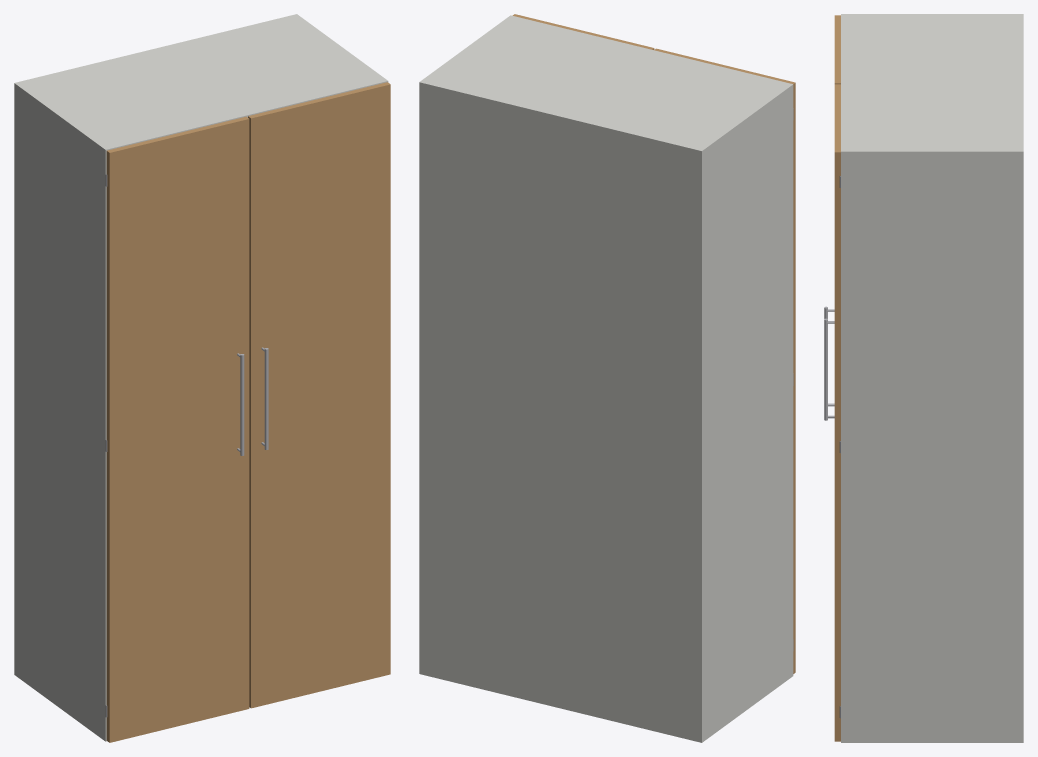
The model's file is 035_two_door_wardrobe.glb.
3 views of the same model, side by side, from view 1: azimuth 30°, elevation 25°; view 2: azimuth 150°, elevation 25°; view 3: azimuth 270°, elevation 25° (orthographic).
Visible parts, largest first — view 1: 026_door_1_panel, 033_door_2_panel, 001_carcass_side_l, 003_carcass_top; view 2: 005_carcass_back_panel, 001_carcass_side_l, 003_carcass_top, 002_carcass_side_r, 026_door_1_panel; view 3: 002_carcass_side_r, 003_carcass_top, 033_door_2_panel, 026_door_1_panel, 039_door_2_pull_bar.
Part boxes in pixels (box(x1,y1,x2,y2)): 026_door_1_panel: box(106, 116, 249, 742); 033_door_2_panel: box(248, 82, 390, 708); 001_carcass_side_l: box(14, 82, 110, 741); 003_carcass_top: box(14, 14, 387, 153); 005_carcass_back_panel: box(424, 89, 696, 741); 001_carcass_side_l: box(697, 83, 793, 742); 003_carcass_top: box(419, 15, 792, 155); 002_carcass_side_r: box(419, 15, 515, 674); 026_door_1_panel: box(654, 48, 795, 673); 002_carcass_side_r: box(841, 149, 1023, 742); 003_carcass_top: box(841, 14, 1023, 156); 033_door_2_panel: box(834, 84, 840, 741); 026_door_1_panel: box(834, 15, 840, 84); 039_door_2_pull_bar: box(824, 318, 827, 420).
Size of the model in its own units: 1 by 2 by 0.612.
